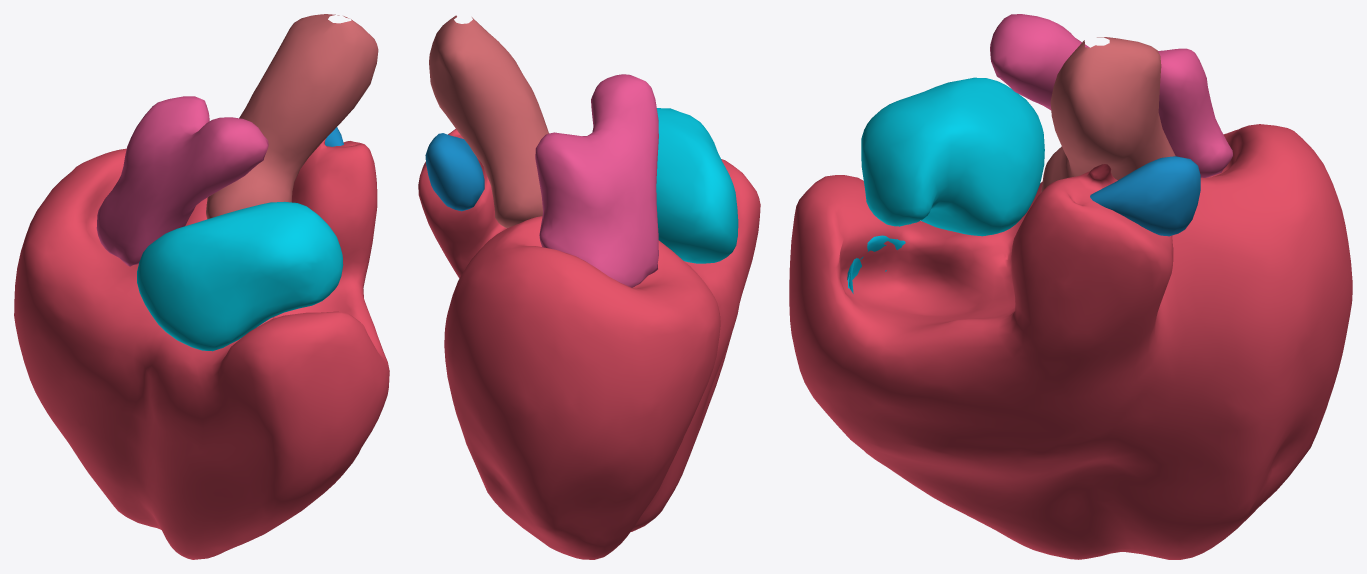
Rendered from frame_0.glb.
3 views of the same model, side by side, from view 1: azimuth 30°, elevation 25°; view 2: azimuth 150°, elevation 25°; view 3: azimuth 270°, elevation 25° (orthographic). The views are drawn at different scales.
Parts seen in each view (by area): view 1: Renderer Node; view 2: Renderer Node; view 3: Renderer Node.
Part boxes in pixels (box(x1,y1,x2,y2)): Renderer Node: box(14, 14, 389, 559); Renderer Node: box(418, 15, 760, 559); Renderer Node: box(789, 14, 1352, 559).
Bounding box in the file's own units: 105 × 162 × 135.
